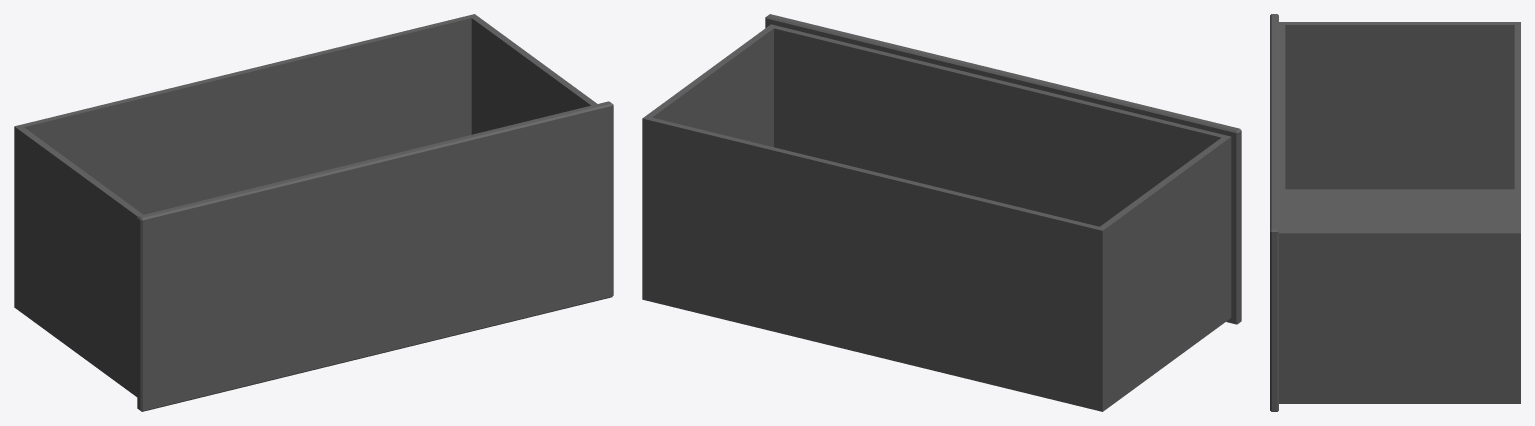
The model's file is Desk_308_2_1_DrawerMesh_02.obj.
The picture shows the model from 3 angles, left to right: view 1: azimuth 30°, elevation 25°; view 2: azimuth 150°, elevation 25°; view 3: azimuth 270°, elevation 25°; orthographic projection. The views are drawn at different scales.
Bounding box in the file's own units: 0.679 × 0.2657 × 0.3314.
1 material, 1 textured.
